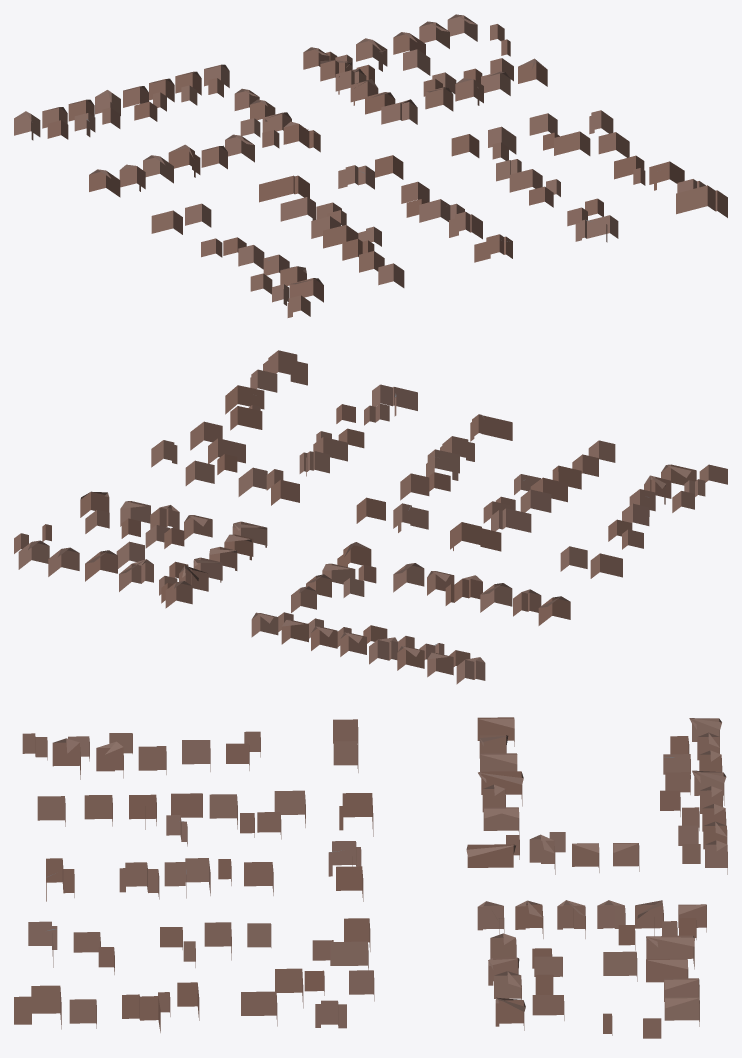
File: c_1644_17829_buildings_residential.glb
3 views of the same model, one above another, from view 1: azimuth 30°, elevation 25°; view 2: azimuth 150°, elevation 25°; view 3: azimuth 270°, elevation 25° (orthographic). The views are drawn at different scales.
Parts seen in each view (by area): view 1: geometry_0; view 2: geometry_0; view 3: geometry_0.
Part boxes in pixels (x1,y1,x2,y2): geometry_0: (14,14,727,317); geometry_0: (14,350,727,684); geometry_0: (14,717,727,1038).
Bounding box in the file's own units: 257 × 11.08 × 255.
